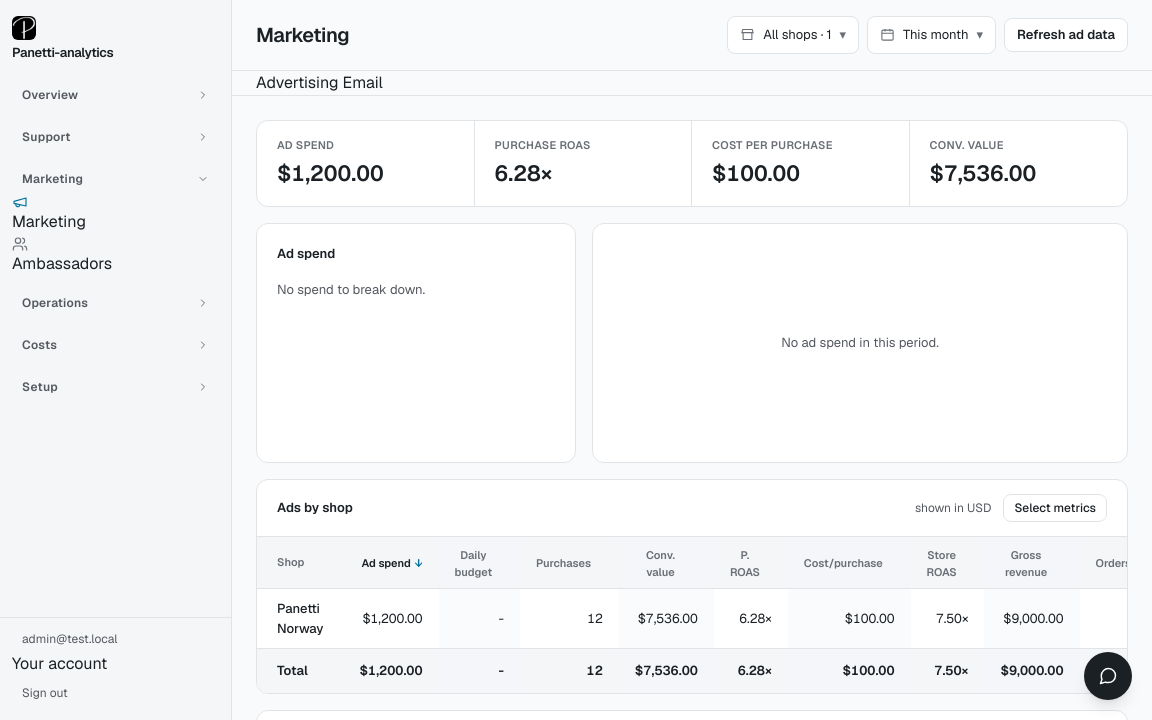
Test case: MarketingClient › shows a network-failure toast when the sync request throws
What coordinates should you click on to do the following:
click the button "Refresh ad data"
I would click on:
 (1066, 35)
Its box is x1=1004 y1=18 x2=1128 y2=52.
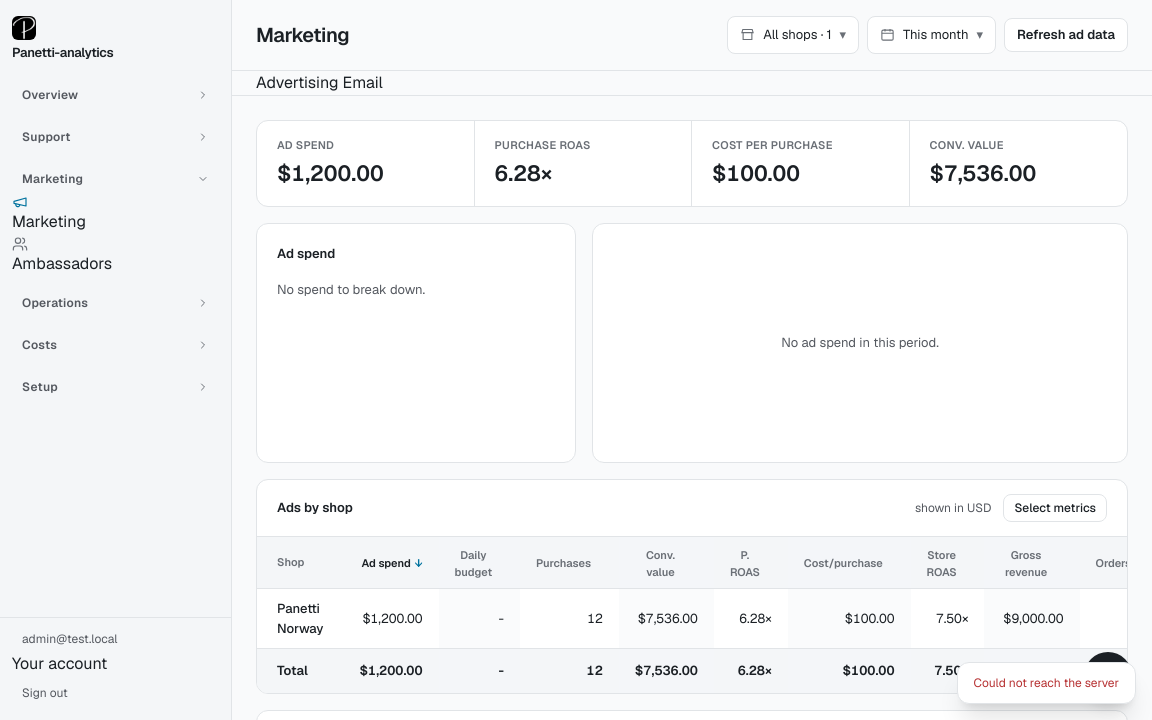
Check: the button "Could not reach the server" is shown, box x1=956 y1=662 x2=1136 y2=704
